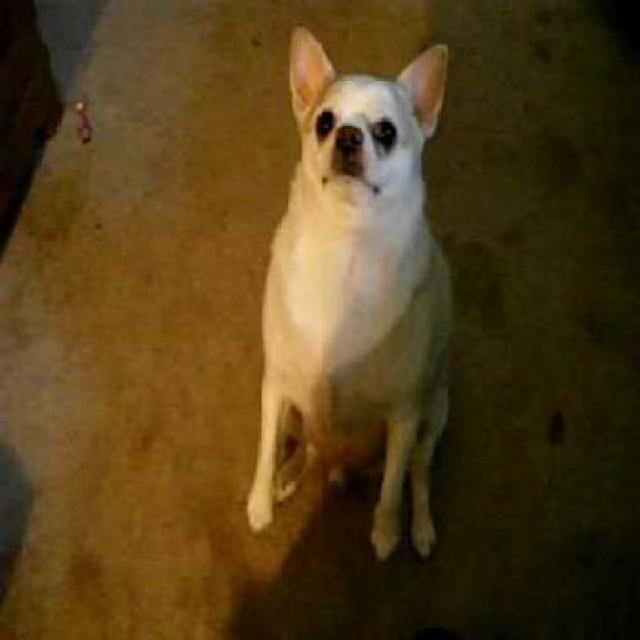Dog: (243, 18, 457, 564)
